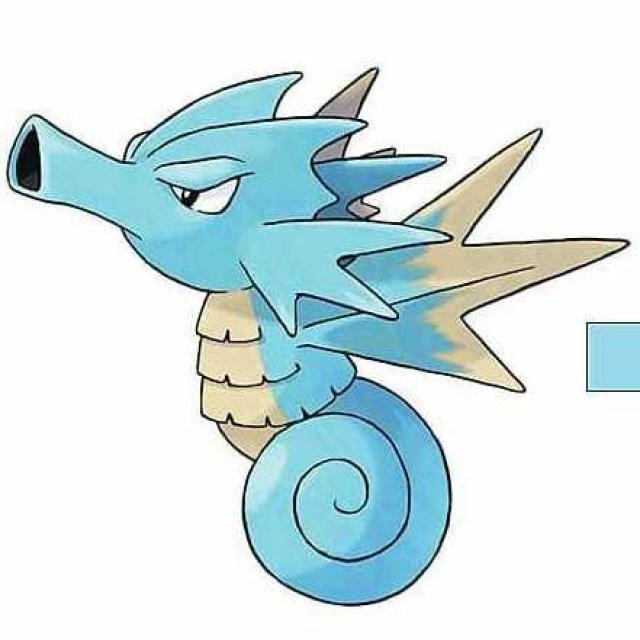Seadra: (2, 65, 484, 606)
